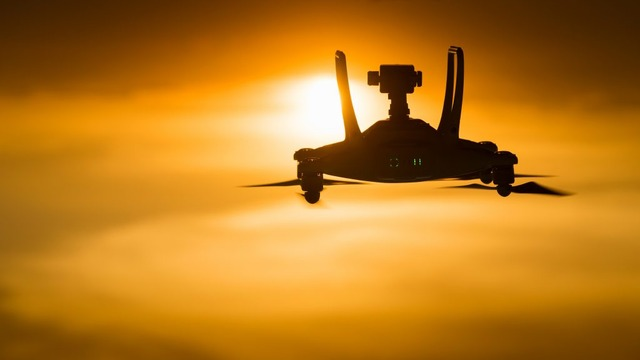drone: (238, 47, 573, 206)
